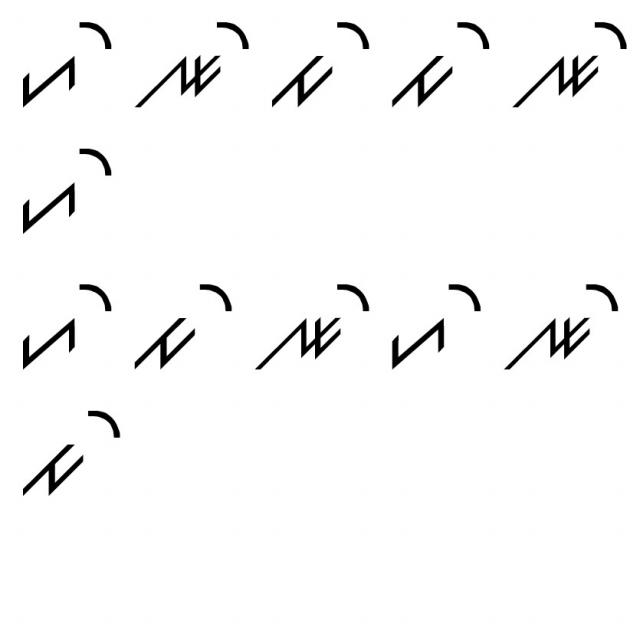hay: (8, 141, 116, 234), (12, 276, 116, 371), (11, 19, 114, 113), (386, 275, 483, 372)
mbay: (11, 400, 123, 502), (382, 13, 494, 112), (129, 278, 237, 376), (269, 13, 373, 110)
nday: (250, 272, 376, 378), (514, 15, 638, 116), (132, 13, 251, 116), (501, 274, 621, 376)
